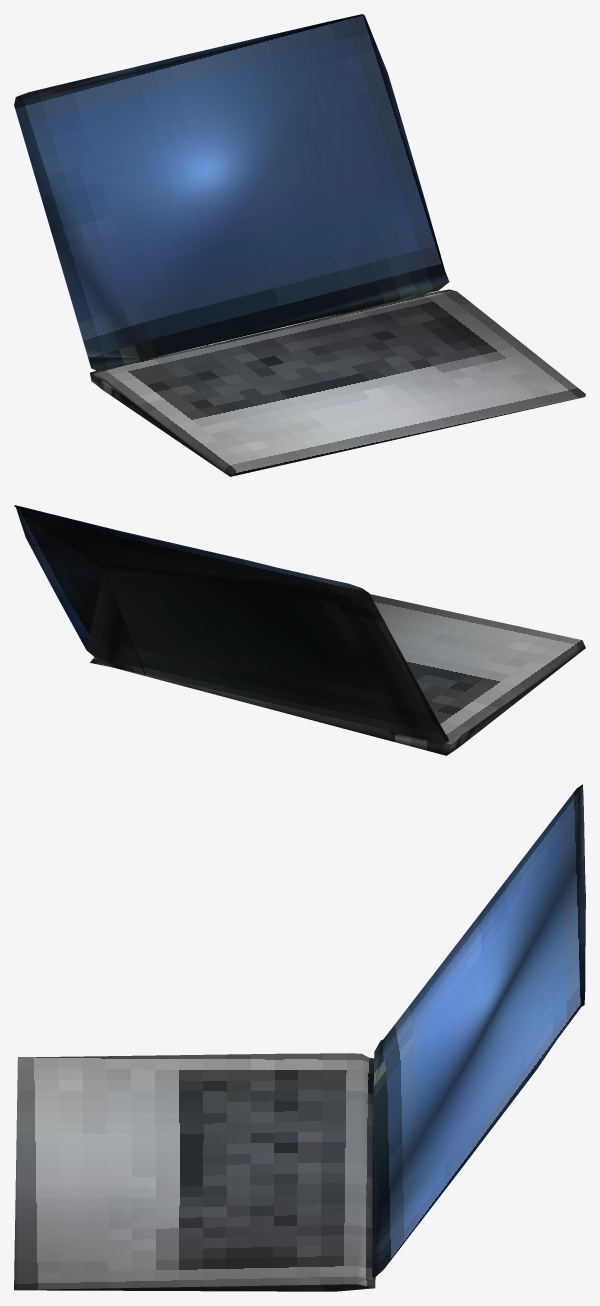
Rendered from Lenovo_Yoga_2_11-low.glb.
The picture shows the model from 3 angles, top to bottom: view 1: azimuth 30°, elevation 25°; view 2: azimuth 150°, elevation 25°; view 3: azimuth 270°, elevation 25°; orthographic projection. The views are drawn at different scales.
Visible parts, largest first — view 1: Lenovo_Yoga_2_11; view 2: Lenovo_Yoga_2_11; view 3: Lenovo_Yoga_2_11.
Part boxes in pixels (x1,y1,x2,y2): Lenovo_Yoga_2_11: (14, 14, 585, 476); Lenovo_Yoga_2_11: (14, 505, 585, 755); Lenovo_Yoga_2_11: (14, 784, 585, 1291).
Bounding box in the file's own units: 0.299 × 0.1797 × 0.3195.
Materials: 1 (1 with a texture image).
